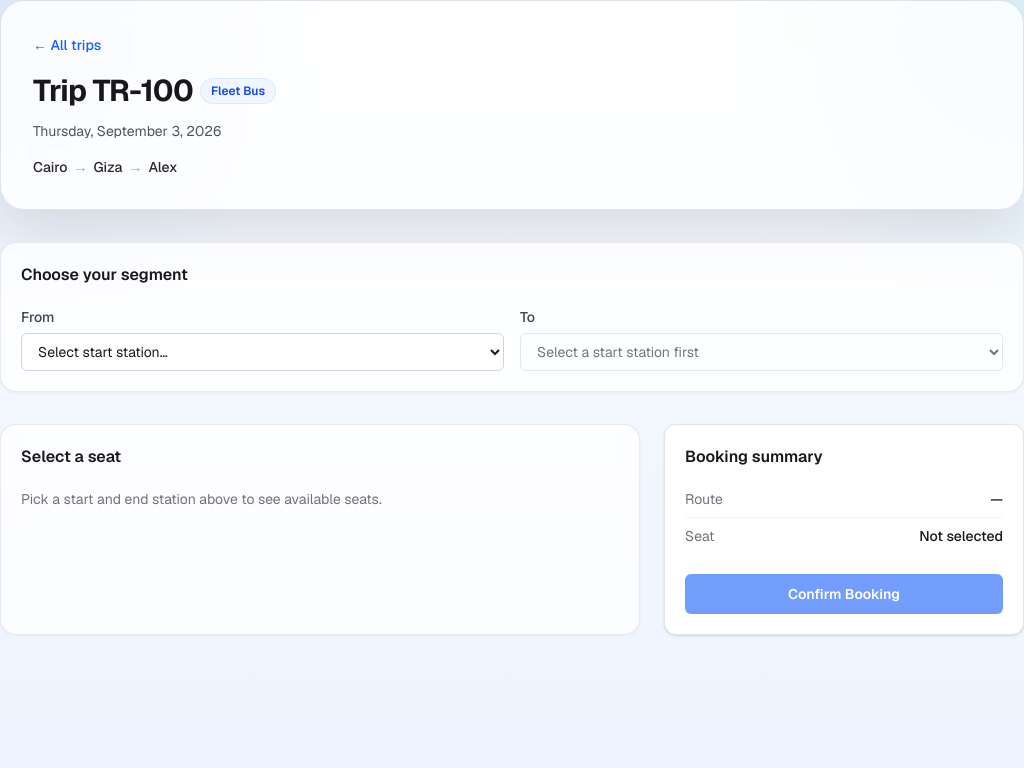
Test: Trip detail booking page › renders available and unavailable seats
Step 1. Select "Cairo" in the dropdown labelled "From" → {"x": 262, "y": 352}, box [21, 333, 504, 371]
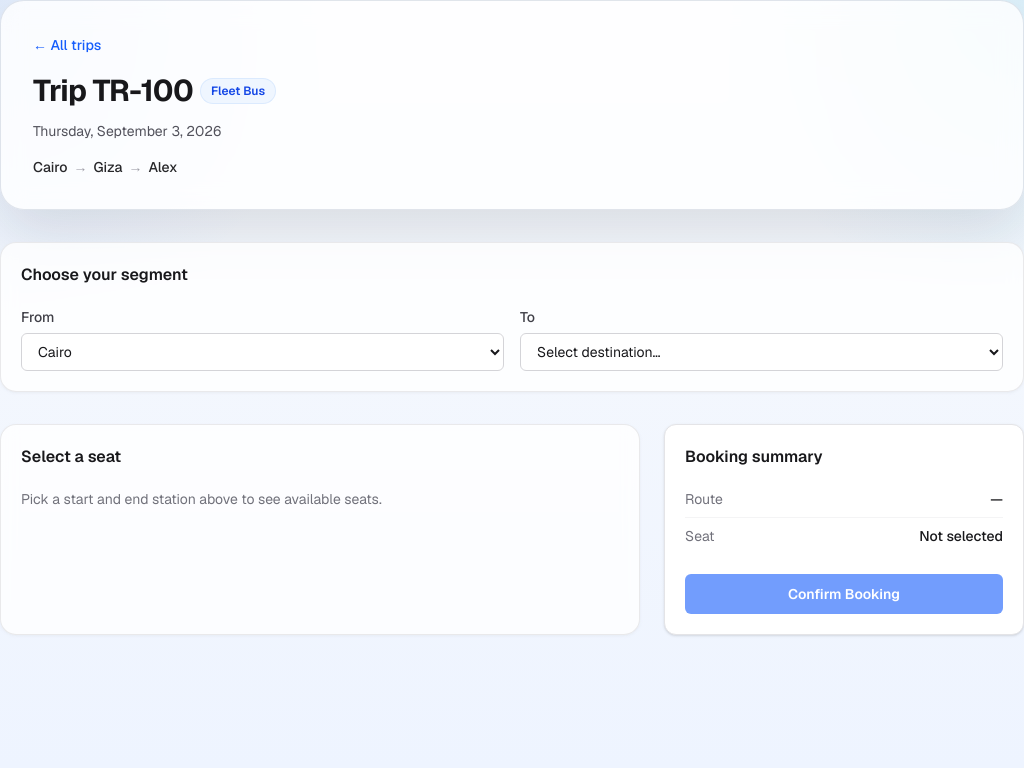
Step 2. Select "Giza" in the dropdown labelled "To" → {"x": 762, "y": 352}, box [520, 333, 1003, 371]
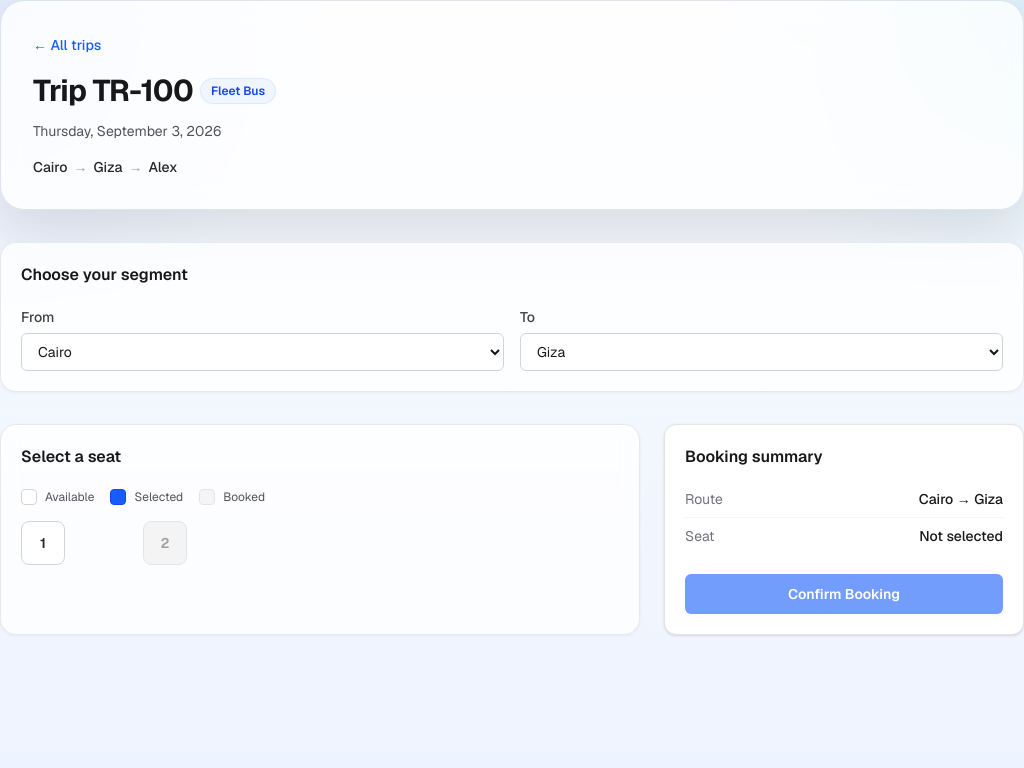
Expected: the element named "Seats grid" is shown, [21, 521, 187, 565]
Expected: the button named "Seat 1 — available" is enabled, [21, 521, 65, 565]
Expected: the button named "Seat 2 — unavailable" is disabled, [143, 521, 187, 565]
